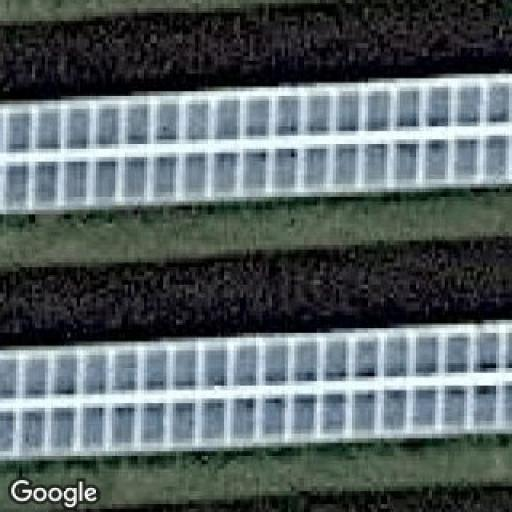solar-panel: (0, 74, 512, 214), (0, 328, 512, 446)
